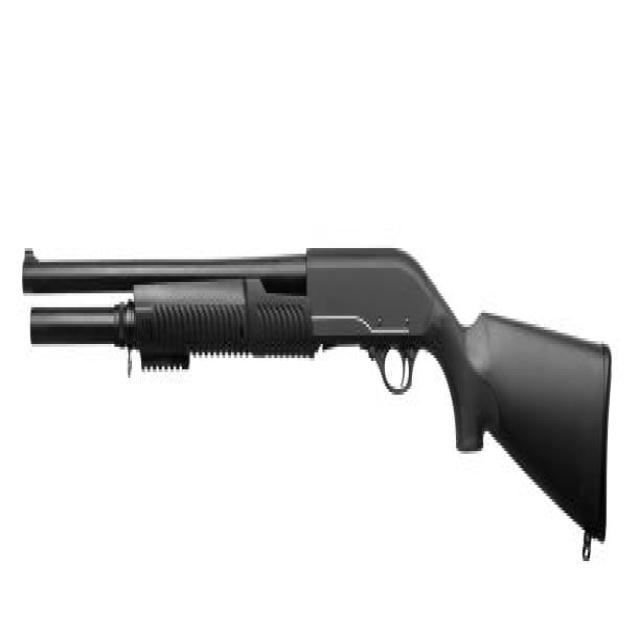rifle: (17, 223, 621, 594)
